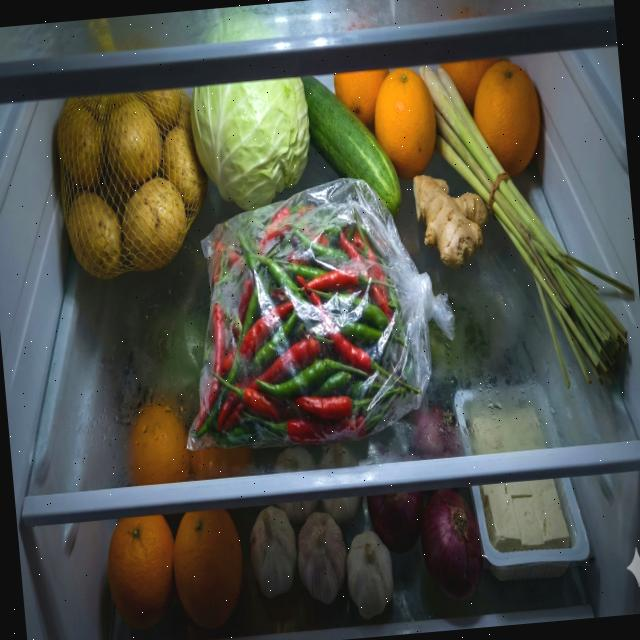cabbage: (187, 76, 316, 216)
chili: (171, 188, 425, 453)
cucumber: (301, 68, 404, 225)
garlic: (246, 492, 396, 628)
ginger: (412, 168, 492, 270)
lemongrass: (420, 57, 640, 408)
onion: (365, 484, 486, 610)
orange: (102, 506, 249, 640), (440, 53, 546, 181), (332, 64, 442, 186)
potato: (53, 86, 216, 283)
tofu: (469, 403, 570, 554)
